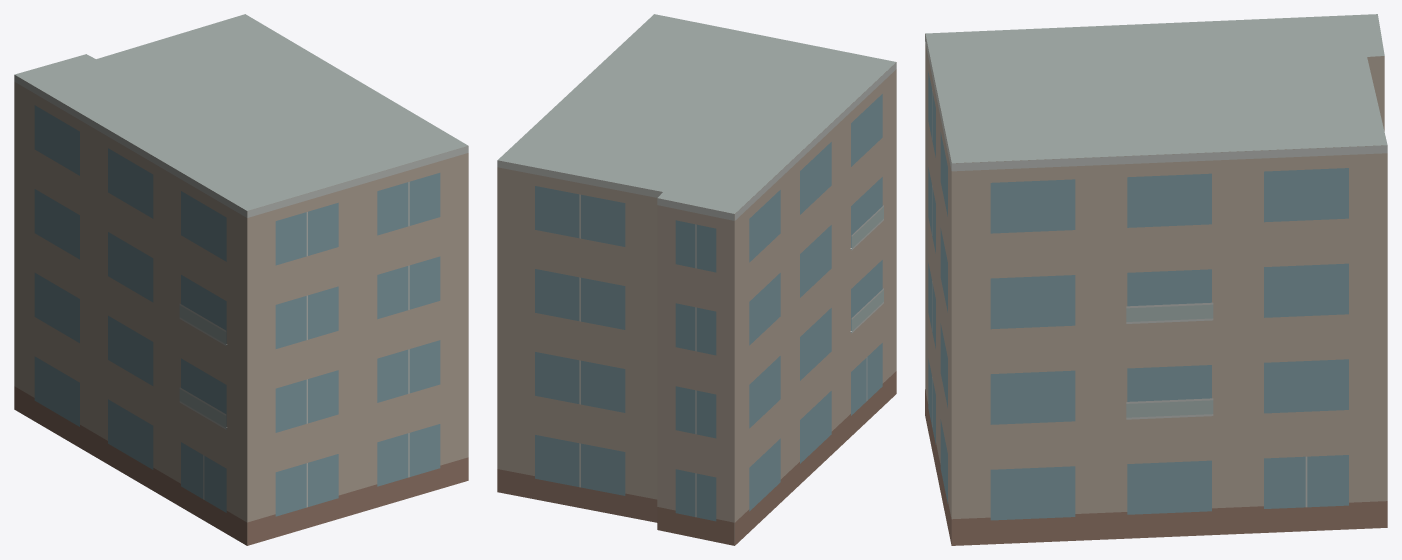
Rendered from survey-upis-32471481.glb.
3 renders of one model, left to right at view 1: azimuth 30°, elevation 25°; view 2: azimuth 150°, elevation 25°; view 3: azimuth 270°, elevation 25°, orthographic. The views are drawn at different scales.
Visible parts, largest first — view 1: survey-upis-32471481.tmp; view 2: survey-upis-32471481.tmp; view 3: survey-upis-32471481.tmp.
Boxes of the visible parts, x1,y1,x2,y2 form: survey-upis-32471481.tmp: (14, 14, 468, 545); survey-upis-32471481.tmp: (497, 14, 896, 545); survey-upis-32471481.tmp: (925, 14, 1387, 545).
Bounding box in the file's own units: 9.68 × 11.56 × 12.67.
